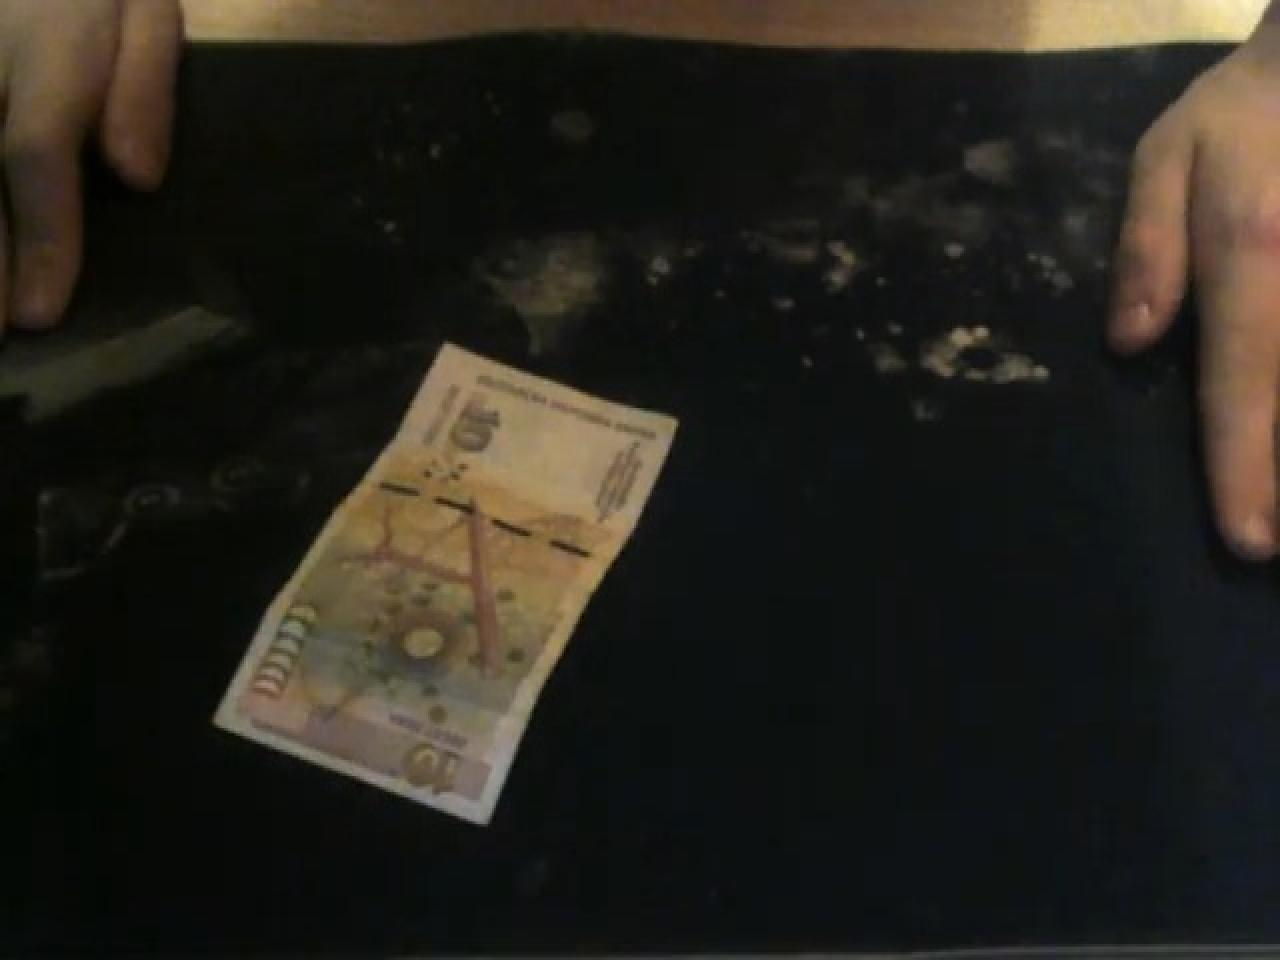10leva: (210, 336, 680, 829)
